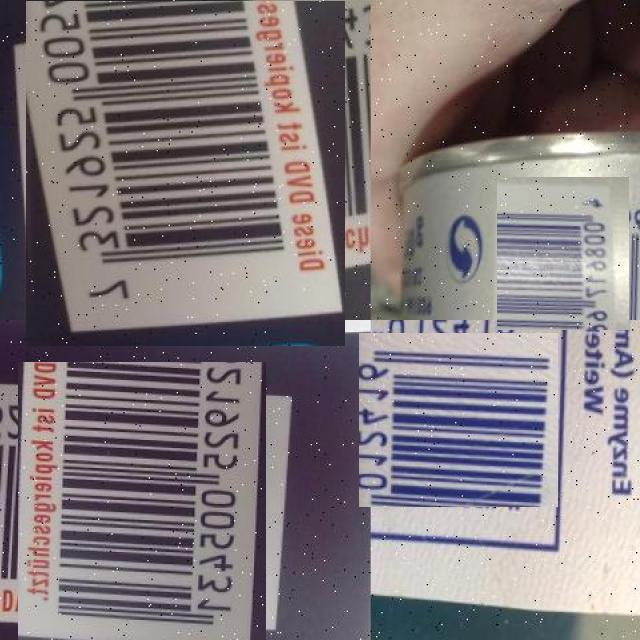Barcode: (12, 0, 358, 333), (9, 371, 276, 637), (364, 326, 552, 514), (492, 182, 634, 326)
